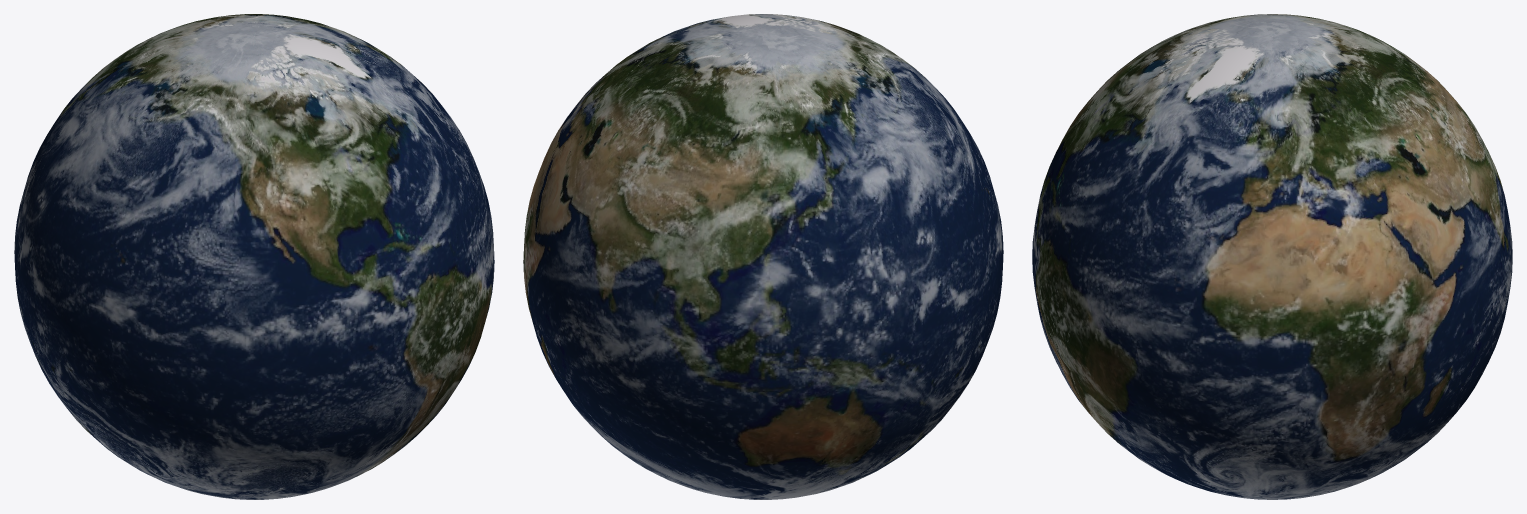
Rendered from Earth.gltf.
3 renders of one model, left to right at view 1: azimuth 30°, elevation 25°; view 2: azimuth 150°, elevation 25°; view 3: azimuth 270°, elevation 25°, orthographic.
Visible parts, largest first — view 1: Earth; view 2: Earth; view 3: Earth.
Boxes of the visible parts, x1,y1,x2,y2 form: Earth: [14, 14, 494, 499]; Earth: [523, 14, 1003, 499]; Earth: [1032, 14, 1512, 499].
Bounding box in the file's own units: 4.92 × 4.97 × 4.92.
1 material, 1 textured.
